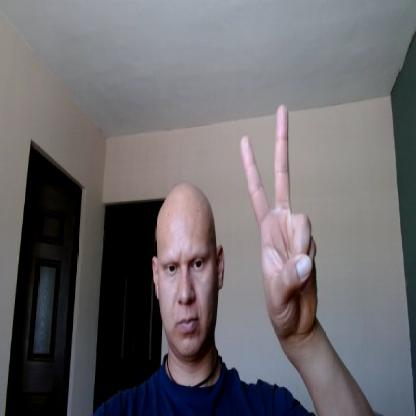V: (241, 104, 320, 332)
